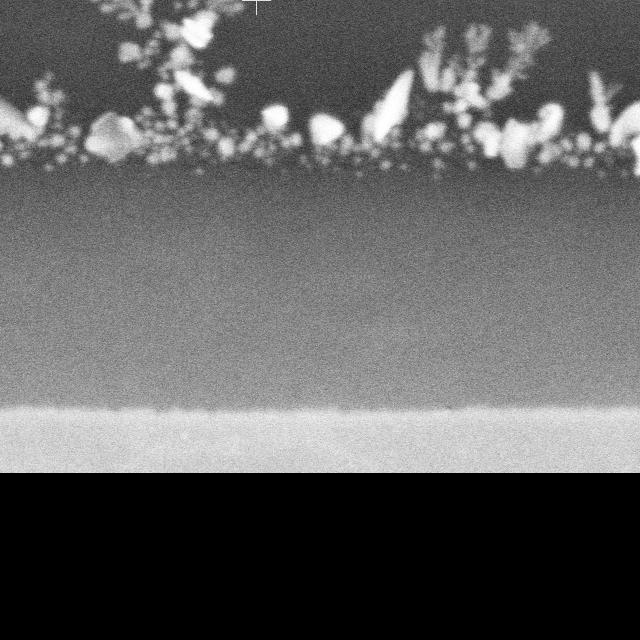Dendrite: (305, 22, 605, 175), (0, 72, 91, 167)
